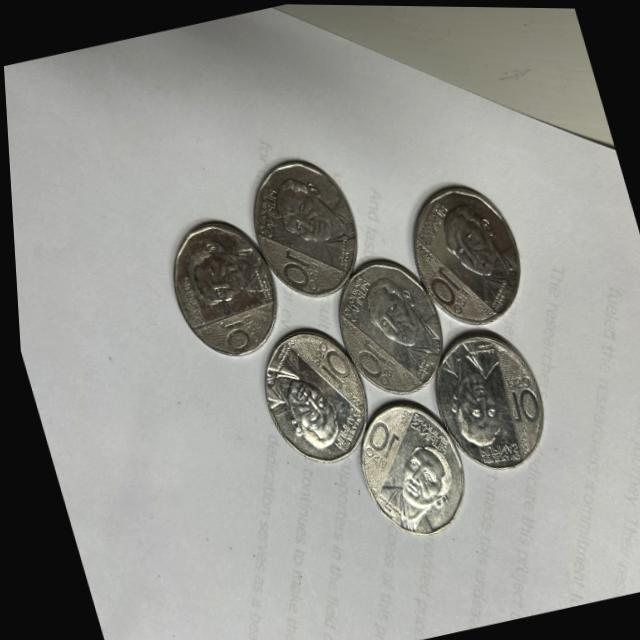10_New_Front: (414, 250, 472, 320), (343, 414, 402, 475), (262, 237, 318, 298), (303, 333, 356, 397), (342, 329, 394, 384), (495, 366, 535, 430), (206, 310, 255, 355)
